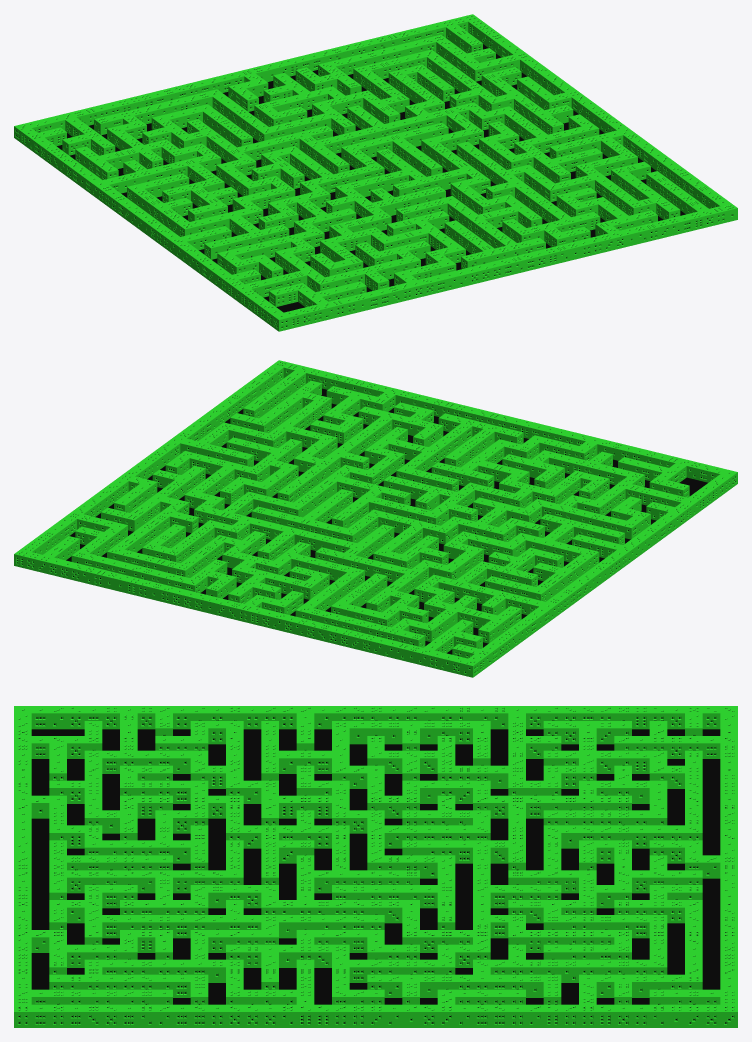
3 views of the same model, one above another, from view 1: azimuth 30°, elevation 25°; view 2: azimuth 150°, elevation 25°; view 3: azimuth 270°, elevation 25° (orthographic). The views are drawn at different scales.
Parts seen in each view (by area): view 1: Plane; view 2: Plane; view 3: Plane.
Part boxes in pixels (x1,y1,x2,y2): Plane: (57, 44, 685, 312); Plane: (66, 388, 707, 654); Plane: (31, 729, 720, 1004).
Bounding box in the file's own units: 8200 × 200 × 8200.
